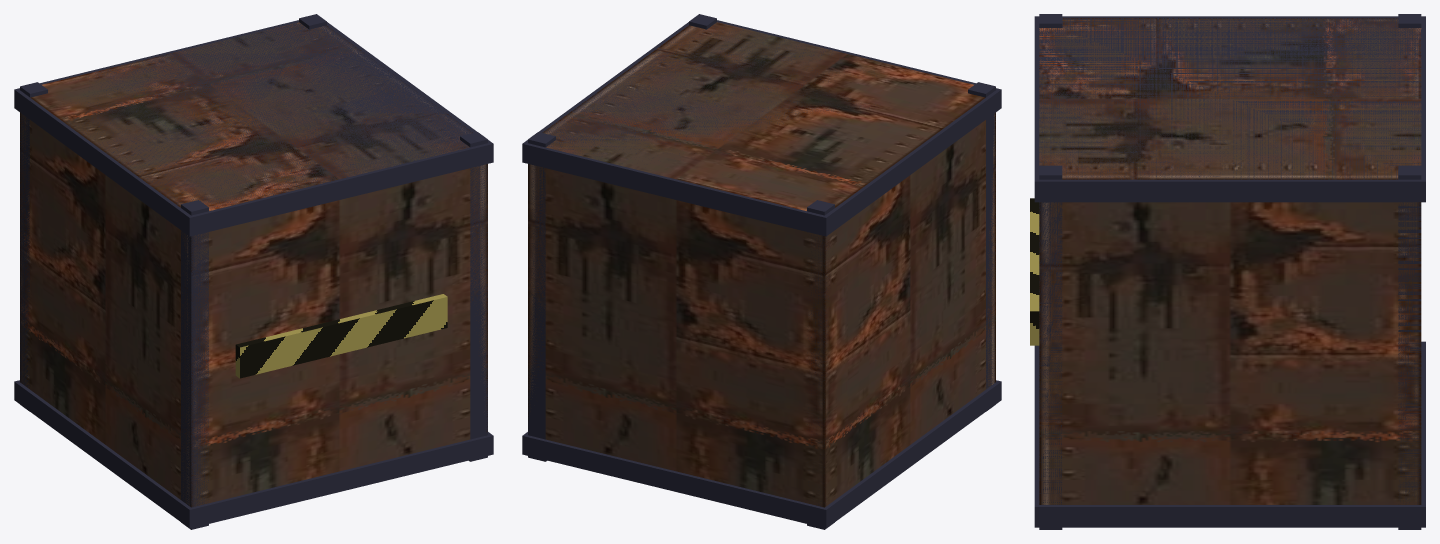
Rendered from prop_crate_small.glb.
The picture shows the model from 3 angles, left to right: view 1: azimuth 30°, elevation 25°; view 2: azimuth 150°, elevation 25°; view 3: azimuth 270°, elevation 25°; orthographic projection. The views are drawn at different scales.
Parts seen in each view (by area): view 1: prop_crate_small; view 2: prop_crate_small; view 3: prop_crate_small.
Boxes of the visible parts, box(x1,y1,x2,y2) form: prop_crate_small: box(14, 14, 493, 529); prop_crate_small: box(522, 14, 1001, 529); prop_crate_small: box(1030, 14, 1425, 529).
Size of the model in its own units: 0.8192 by 0.8192 by 0.8288.
Materials: 3 (2 with a texture image).
